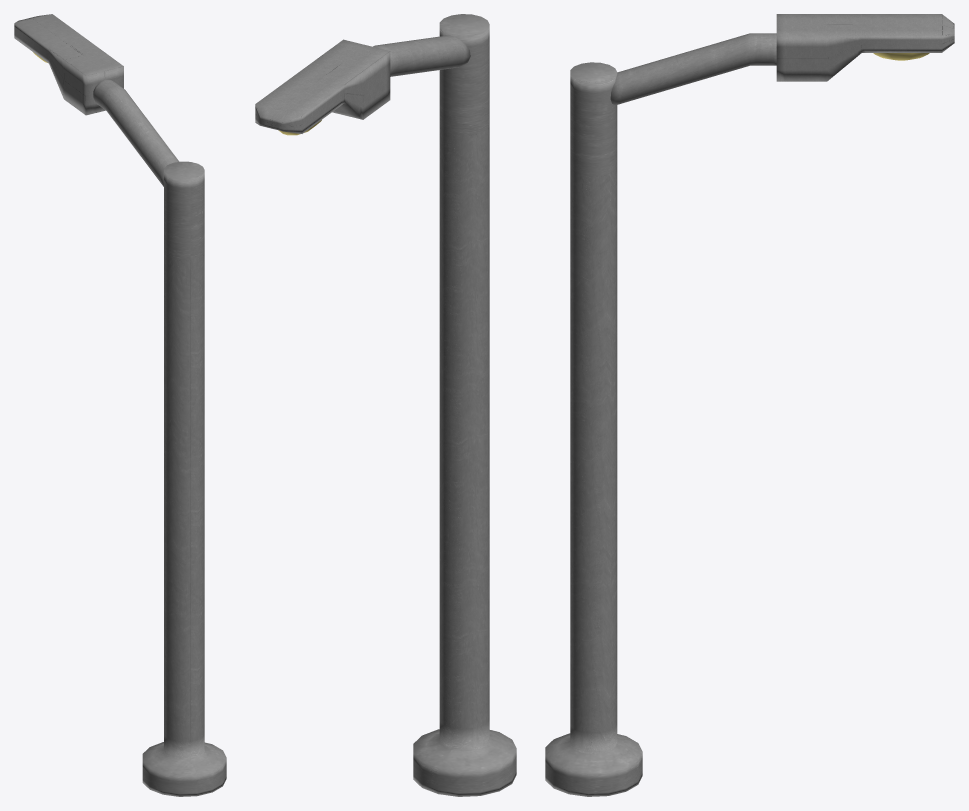
Rendered from Street_Lamp.obj.
The picture shows the model from 3 angles, left to right: view 1: azimuth 30°, elevation 25°; view 2: azimuth 150°, elevation 25°; view 3: azimuth 270°, elevation 25°; orthographic projection. The views are drawn at different scales.
Parts seen in each view (by area): view 1: Street_Light; view 2: Street_Light; view 3: Street_Light.
Part boxes in pixels (box(x1,y1,x2,y2)): Street_Light: box(14, 14, 226, 796); Street_Light: box(255, 14, 516, 796); Street_Light: box(545, 14, 954, 796).
Size of the model in its own units: 1.99 by 16.9 by 8.34.
